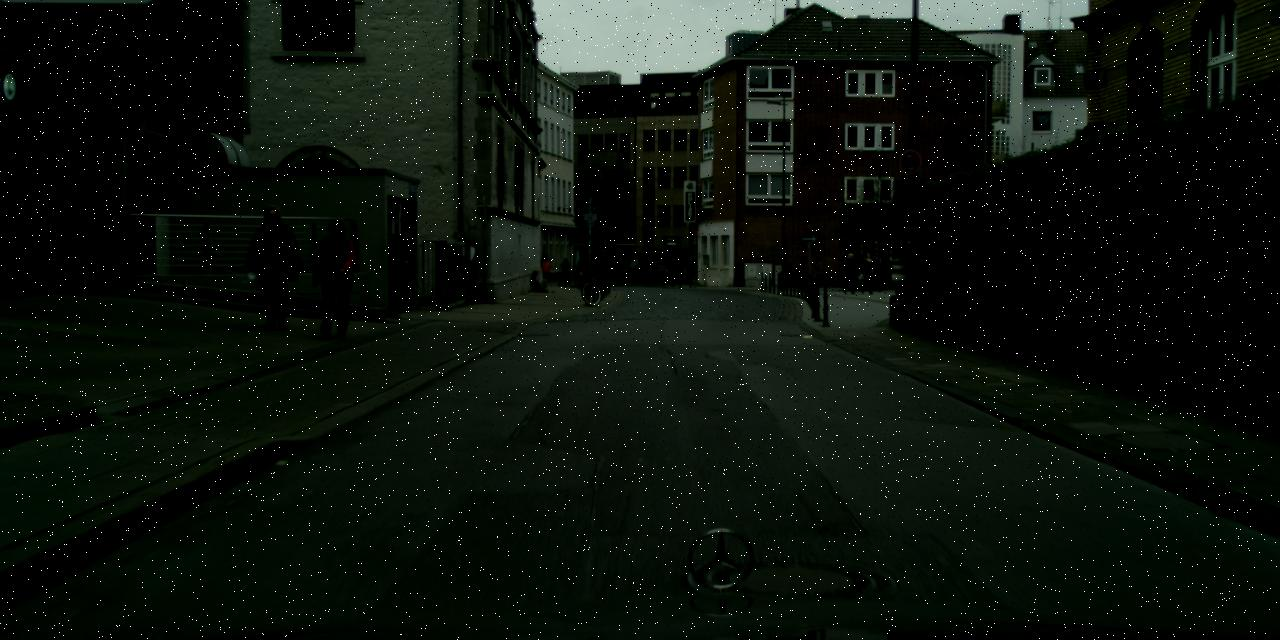ped: (249, 205, 299, 328), (311, 218, 358, 334), (858, 252, 875, 292), (841, 253, 857, 293), (576, 252, 590, 290), (560, 258, 569, 282), (541, 257, 550, 281)
